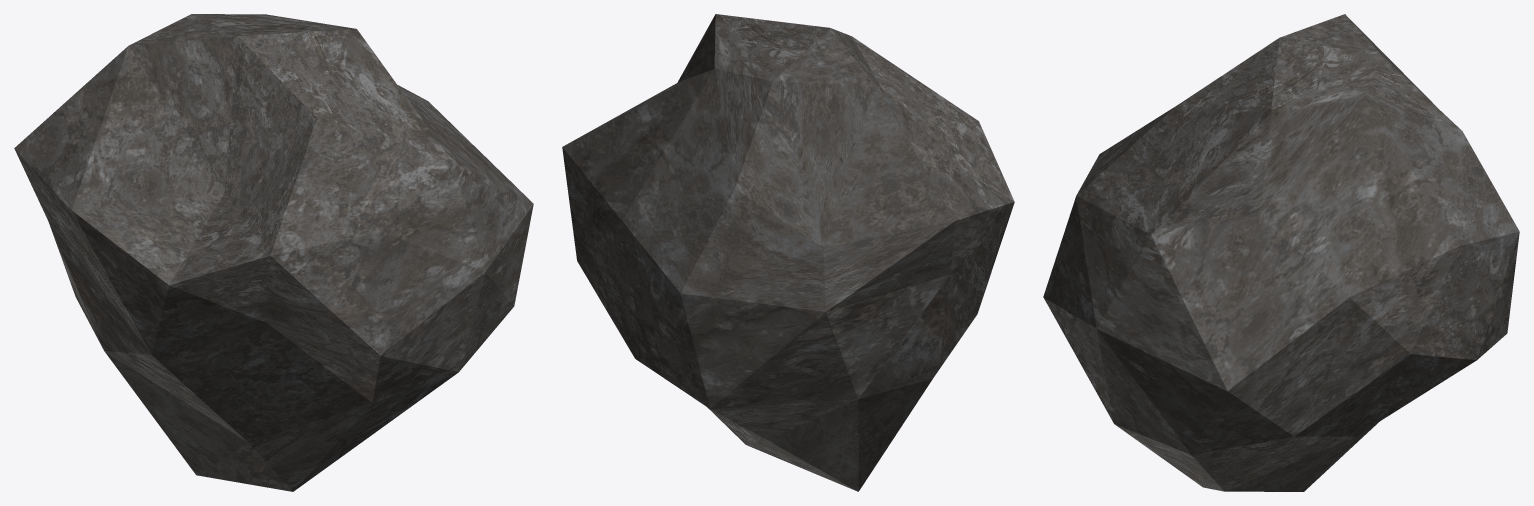
Rendered from Asteroid_04_LOD2.FBX.
3 renders of one model, left to right at view 1: azimuth 30°, elevation 25°; view 2: azimuth 150°, elevation 25°; view 3: azimuth 270°, elevation 25°, orthographic. The views are drawn at different scales.
Parts seen in each view (by area): view 1: Asteriod_04_LOD2; view 2: Asteriod_04_LOD2; view 3: Asteriod_04_LOD2.
Boxes of the visible parts, box(x1,y1,x2,y2) form: Asteriod_04_LOD2: box(14, 14, 533, 491); Asteriod_04_LOD2: box(562, 14, 1014, 491); Asteriod_04_LOD2: box(1043, 14, 1519, 491).
Bounding box in the file's own units: 752 × 707 × 688.
Materials: 1 (1 with a texture image).
